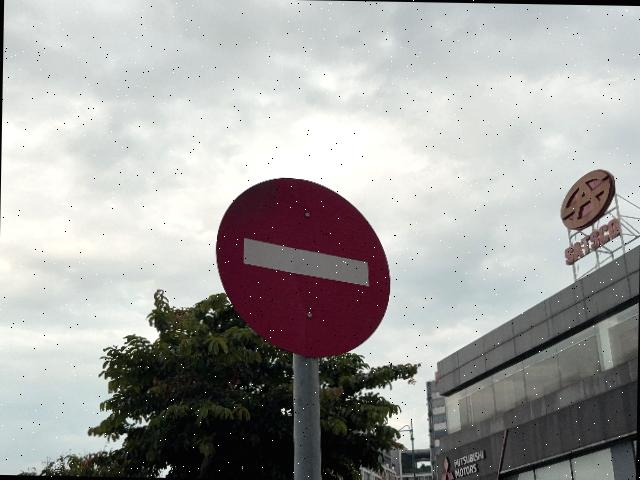cam-di-nguoc-chieu: (214, 176, 392, 358)
